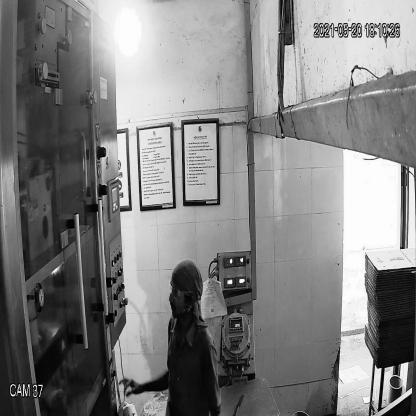goggles: (168, 282, 197, 302)
